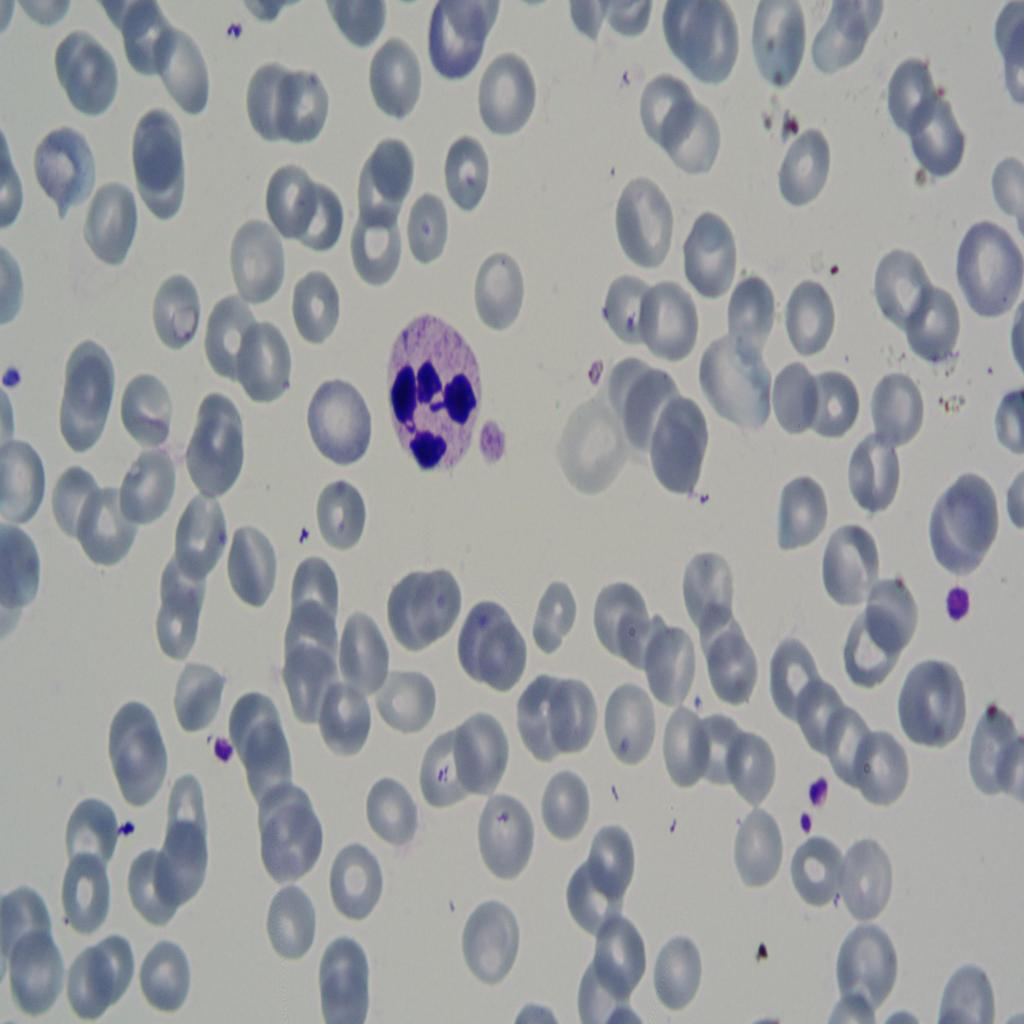Neutrofil: (381, 303, 485, 494)
Platelet: (946, 573, 984, 635), (802, 754, 837, 806), (208, 731, 242, 777), (584, 357, 614, 399), (0, 355, 31, 393), (483, 418, 505, 461), (796, 812, 820, 845)
